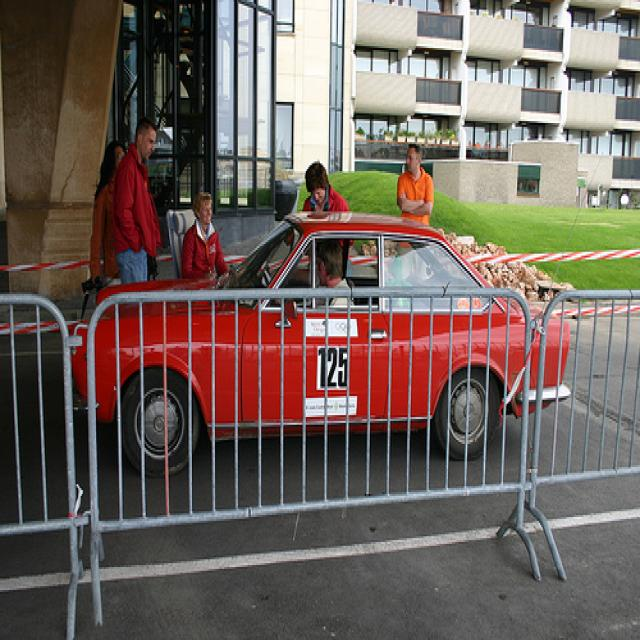light_vehicle: (69, 212, 568, 482)
